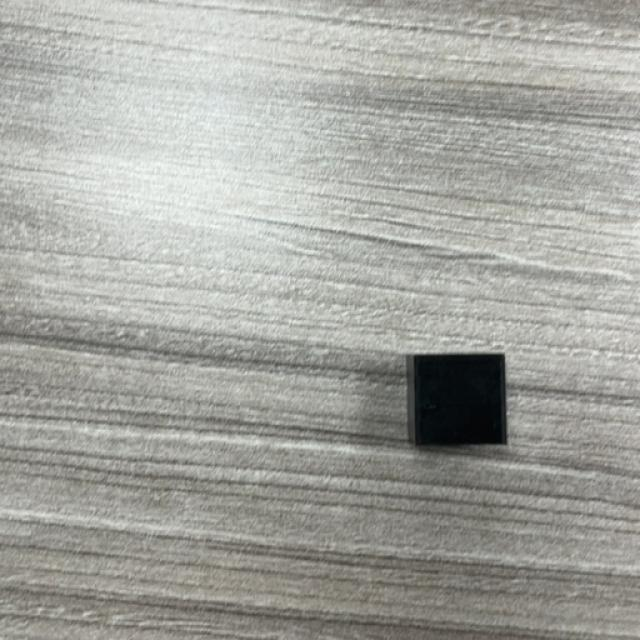Negro: (405, 354, 509, 449)
